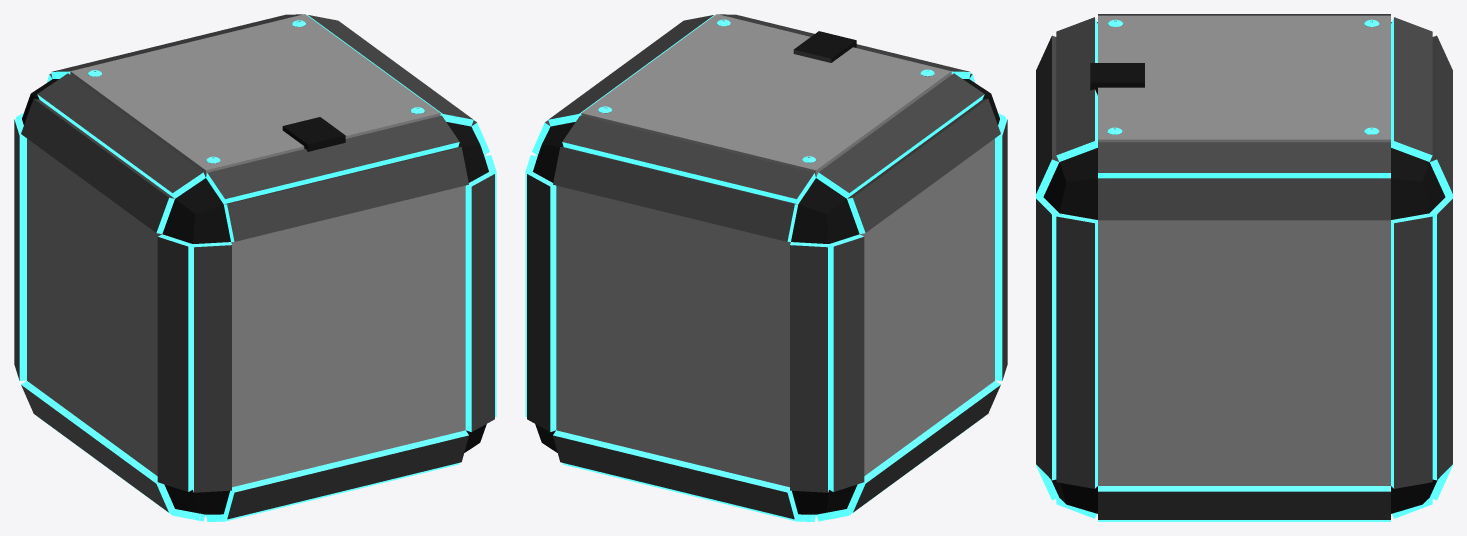
File: crate_1.fbx
3 views of the same model, side by side, from view 1: azimuth 30°, elevation 25°; view 2: azimuth 150°, elevation 25°; view 3: azimuth 270°, elevation 25° (orthographic). The views are drawn at different scales.
Parts seen in each view (by area): view 1: Ящик.003; view 2: Ящик.003; view 3: Ящик.003.
Boxes of the visible parts, <box> form: Ящик.003: <box>14,14,496,521</box>; Ящик.003: <box>525,14,1007,521</box>; Ящик.003: <box>1036,14,1452,521</box>.
Size of the model in its own units: 238 by 242 by 238.
